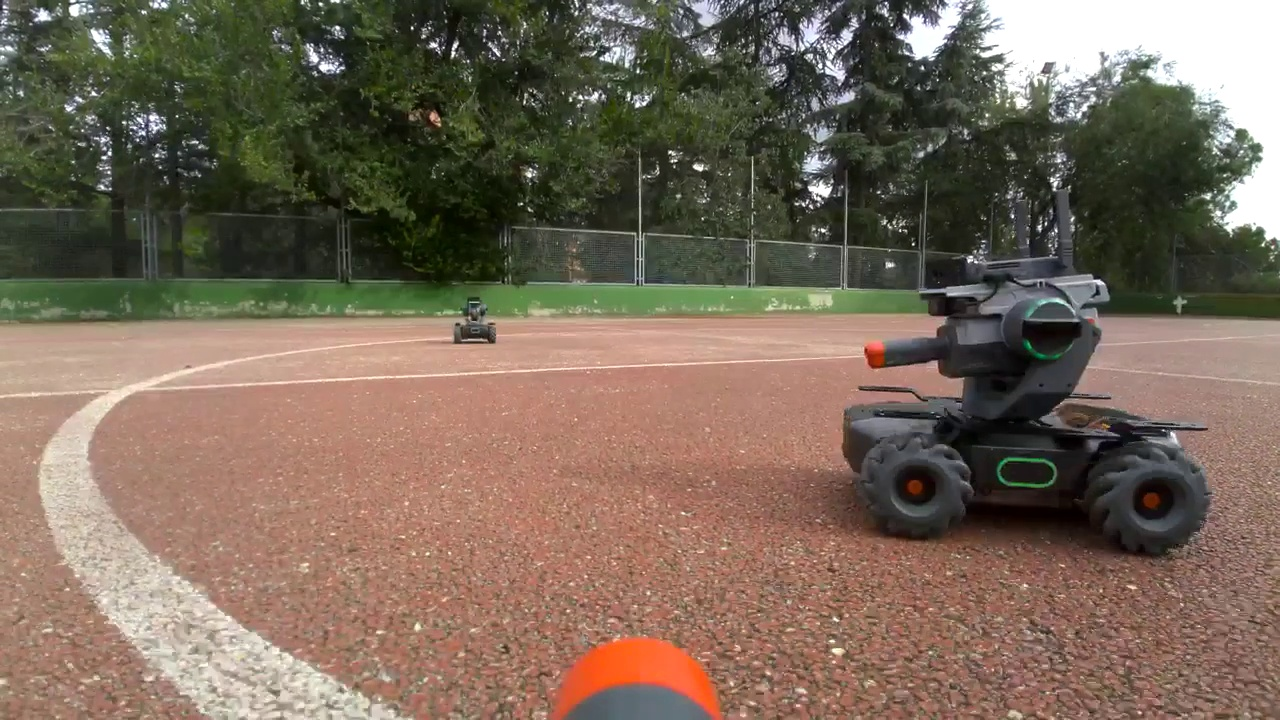robot: (844, 250, 1211, 555), (453, 296, 496, 343)
